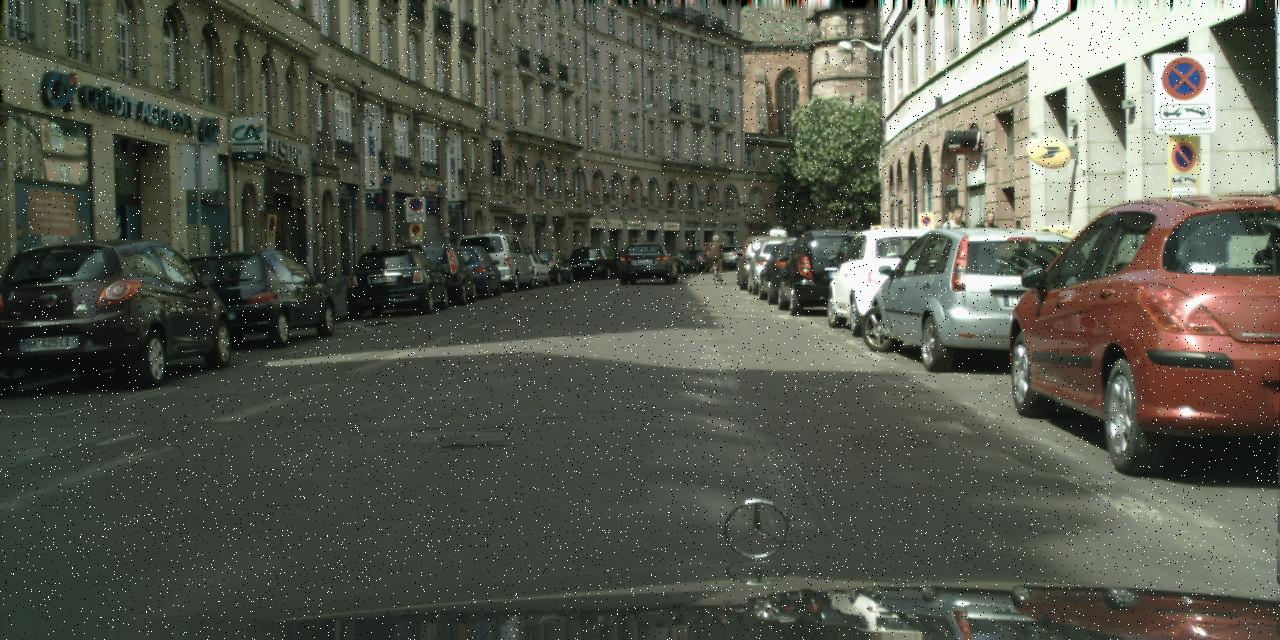ped: (938, 204, 973, 292), (972, 210, 1006, 292), (364, 245, 386, 298), (390, 239, 409, 285), (707, 234, 724, 277)
